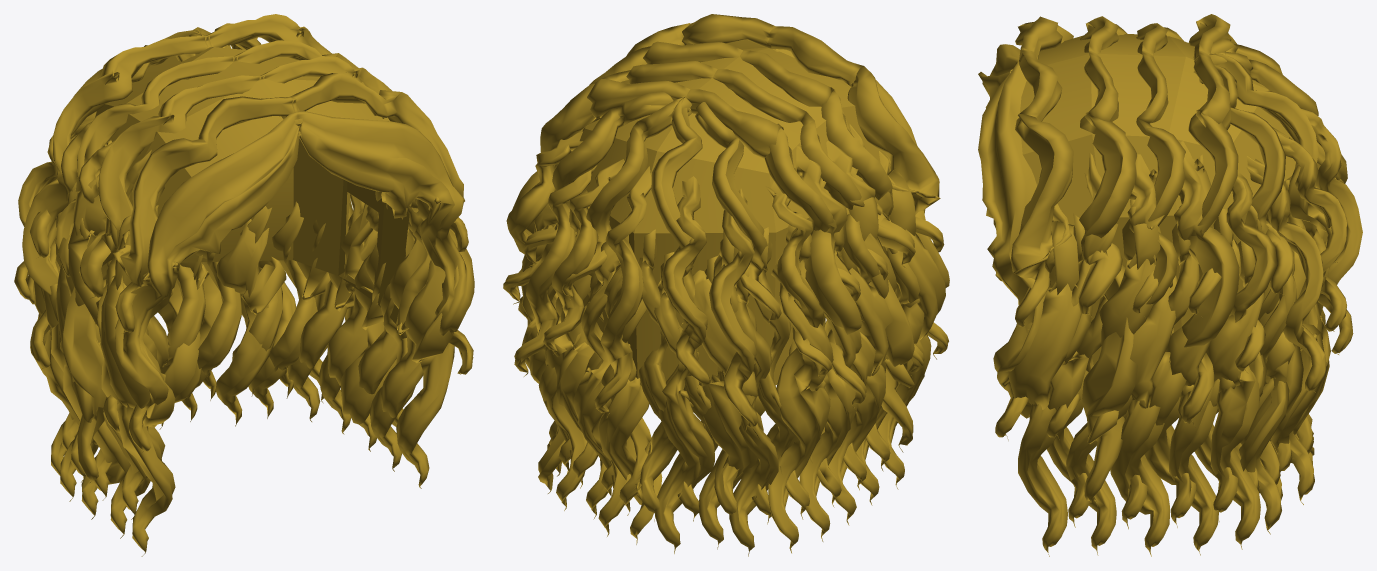
The model's file is Char-model_Female-H_C2_SHORT.fbx.
3 renders of one model, left to right at view 1: azimuth 30°, elevation 25°; view 2: azimuth 150°, elevation 25°; view 3: azimuth 270°, elevation 25°, orthographic. The views are drawn at different scales.
Visible parts, largest first — view 1: Char_Hair._Curly-Short; view 2: Char_Hair._Curly-Short; view 3: Char_Hair._Curly-Short.
Part boxes in pixels (x1=…): Char_Hair._Curly-Short: x1=14, y1=14, x2=474, y2=556; Char_Hair._Curly-Short: x1=503, y1=14, x2=949, y2=556; Char_Hair._Curly-Short: x1=978, y1=14, x2=1362, y2=556.
Bounding box in the file's own units: 221 × 248 × 195.
